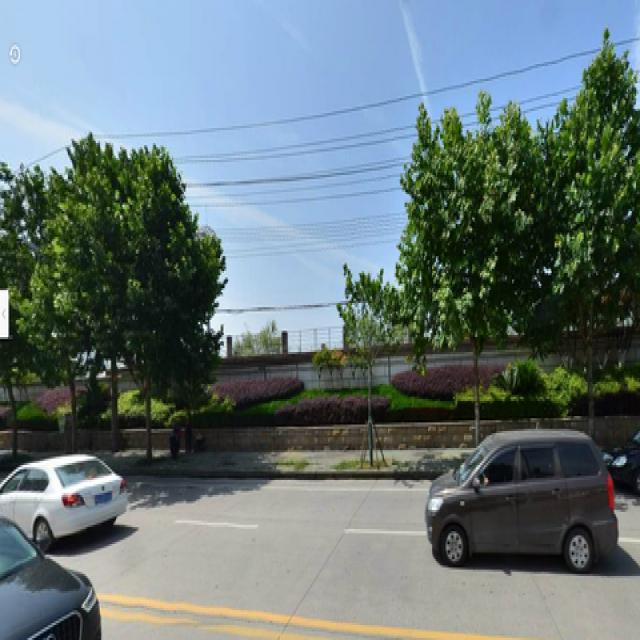meta: (409, 126, 532, 435), (543, 83, 629, 442), (116, 160, 199, 459), (33, 186, 88, 433), (342, 282, 390, 450)
